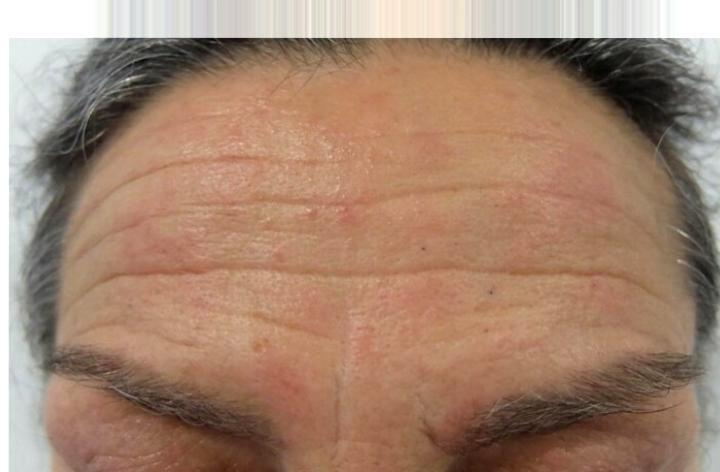Contact Dermatitis: (92, 136, 660, 373)
